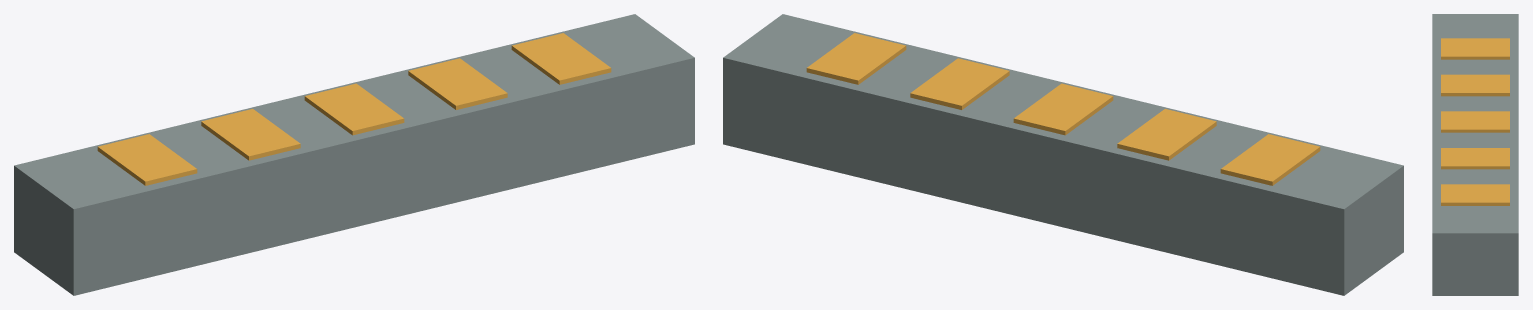
The model's file is blast_barrier.glb.
3 renders of one model, left to right at view 1: azimuth 30°, elevation 25°; view 2: azimuth 150°, elevation 25°; view 3: azimuth 270°, elevation 25°, orthographic. The views are drawn at different scales.
Visible parts, largest first — view 1: blast_barrier; view 2: blast_barrier; view 3: blast_barrier.
Boxes of the visible parts, <box> form: blast_barrier: <box>14,14,694,295</box>; blast_barrier: <box>723,14,1403,295</box>; blast_barrier: <box>1432,14,1518,295</box>.
Bounding box in the file's own units: 6 × 0.84 × 1.
